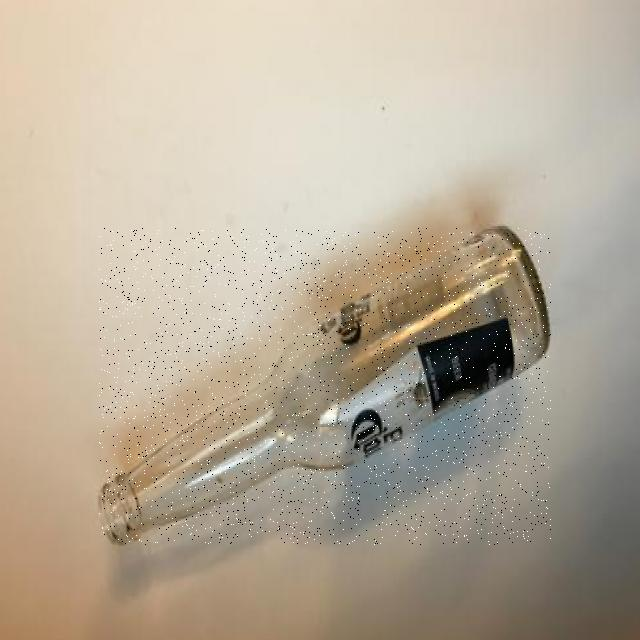glass: (99, 228, 551, 544)
